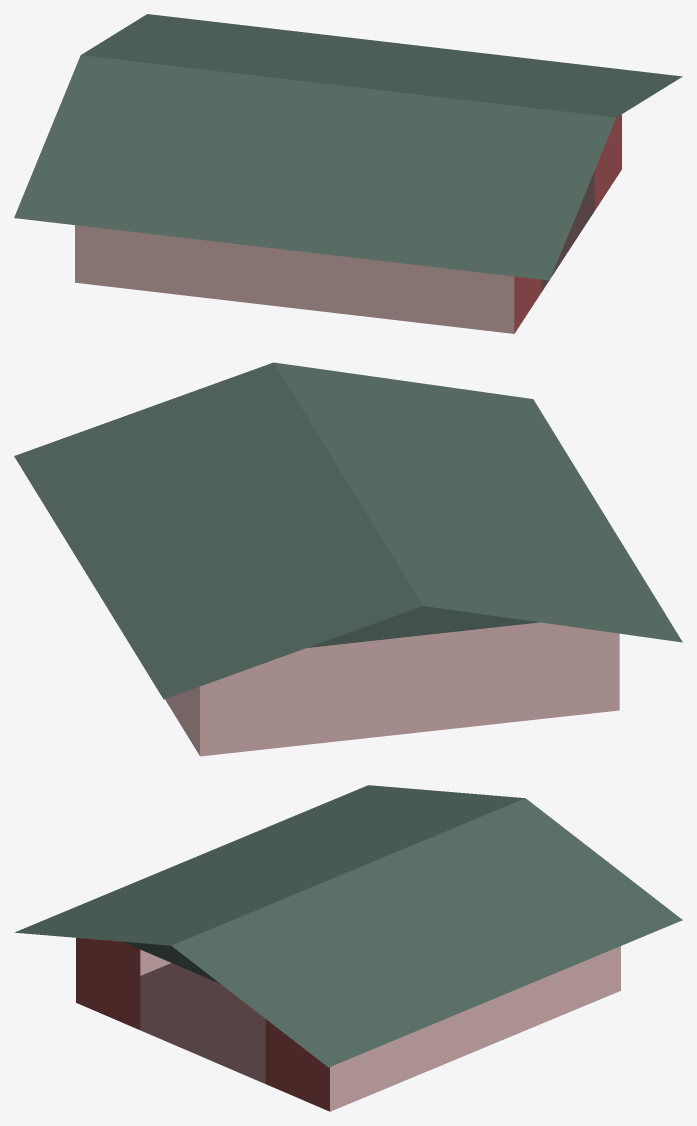
File: zhongzhidapeng.fbx
The picture shows the model from 3 angles, top to bottom: view 1: azimuth 30°, elevation 25°; view 2: azimuth 150°, elevation 25°; view 3: azimuth 270°, elevation 25°; orthographic projection. The views are drawn at different scales.
Visible parts, largest first — view 1: CityEngineMaterial_3_m, CityEngineMaterial_m, CityEngineMaterial_2_m, CityEngineMaterial_1_m; view 2: CityEngineMaterial_3_m, CityEngineMaterial_m; view 3: CityEngineMaterial_3_m, CityEngineMaterial_m, CityEngineMaterial_1_m, CityEngineMaterial_2_m.
Boxes of the visible parts, x1,y1,x2,y2 form: CityEngineMaterial_3_m: [14, 14, 682, 280]; CityEngineMaterial_m: [75, 225, 514, 333]; CityEngineMaterial_2_m: [514, 114, 621, 333]; CityEngineMaterial_1_m: [541, 171, 594, 291]; CityEngineMaterial_3_m: [14, 362, 682, 699]; CityEngineMaterial_m: [165, 622, 619, 756]; CityEngineMaterial_3_m: [14, 785, 682, 1067]; CityEngineMaterial_m: [140, 946, 620, 1111]; CityEngineMaterial_1_m: [140, 963, 265, 1083]; CityEngineMaterial_2_m: [76, 938, 329, 1111].
Size of the model in its own units: 74.94 by 15.44 by 75.
